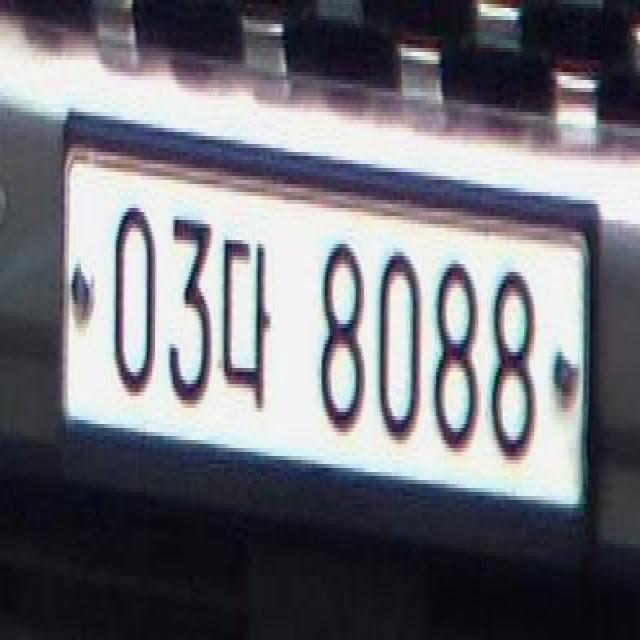illegal_plate: (69, 128, 596, 542)
